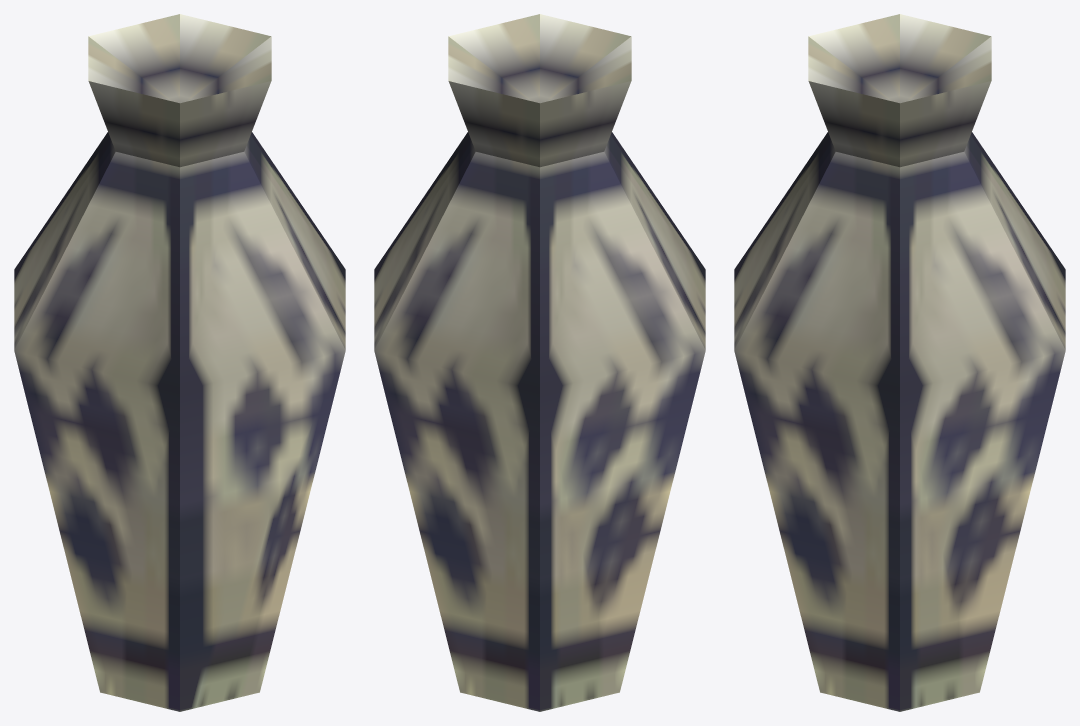
3 views of the same model, side by side, from view 1: azimuth 30°, elevation 25°; view 2: azimuth 150°, elevation 25°; view 3: azimuth 270°, elevation 25° (orthographic).
Visible parts, largest first — view 1: OM_20_ns_base01A; view 2: OM_20_ns_base01A; view 3: OM_20_ns_base01A.
Part boxes in pixels (bbox=[...]): OM_20_ns_base01A: bbox=[14, 14, 345, 711]; OM_20_ns_base01A: bbox=[374, 14, 705, 711]; OM_20_ns_base01A: bbox=[734, 14, 1065, 711].
Bounding box in the file's own units: 0.2755 × 0.4877 × 0.2386.
Materials: 1 (1 with a texture image).
